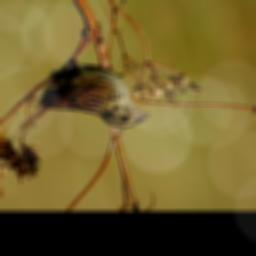Sparrow: (11, 22, 152, 139)
